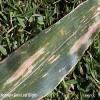Corn leaf blight: (2, 3, 99, 91)
